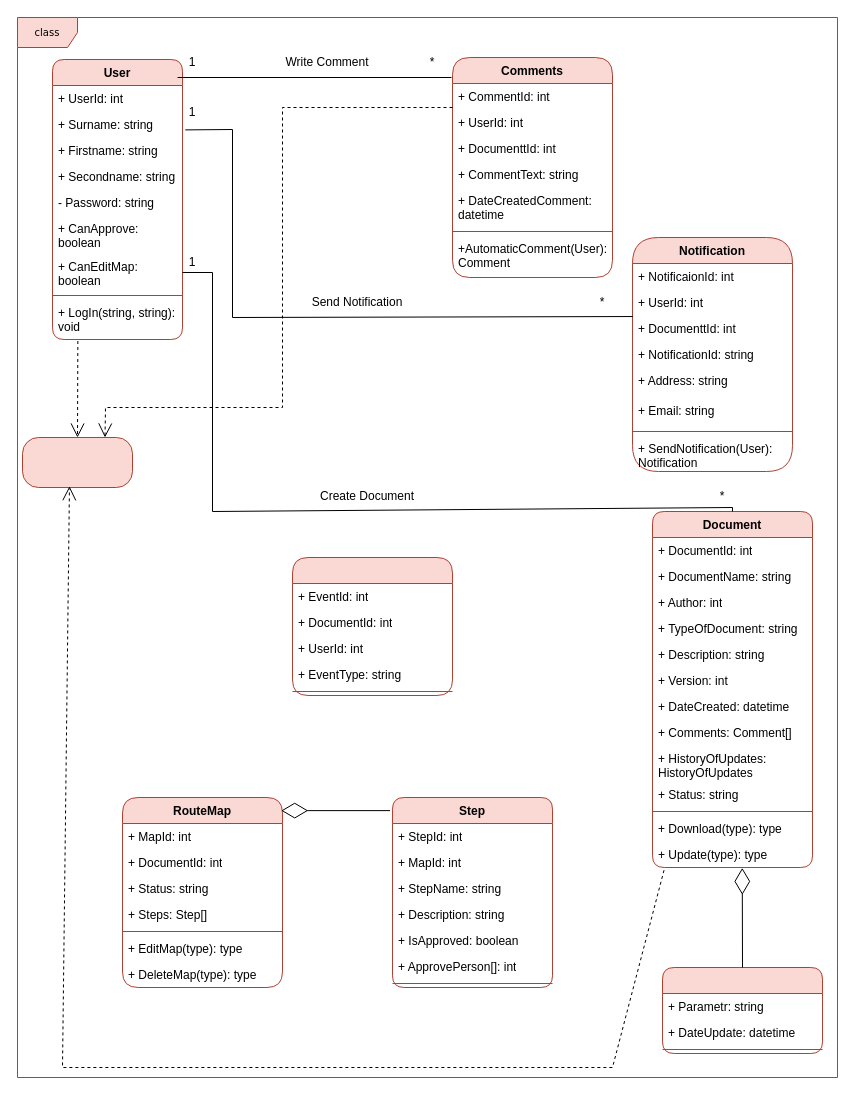
Some shapes in this 855 by 1099 pixel diagram are drawn without their labels. The box of each missing label's shape, as (x1, y1, x2, y2) in pixels:
EventJournal: (292, 556, 452, 696)
HistoryOfUpdates: (662, 966, 822, 1054)
«interface» IComparable: (22, 436, 132, 488)
